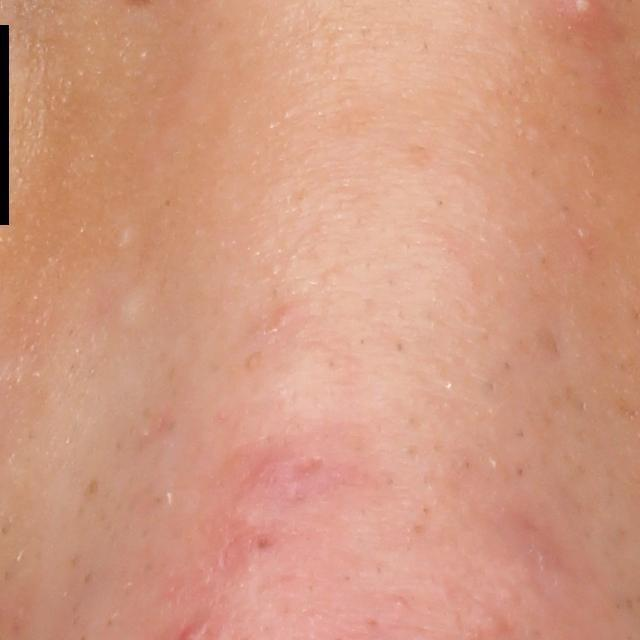hypertrophic_scar: (113, 274, 154, 337)
